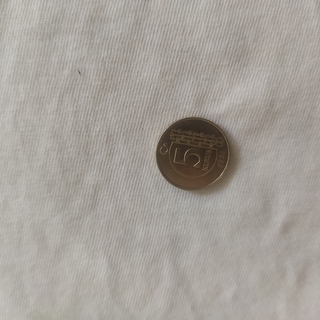5KURUS: (154, 115, 231, 191)
